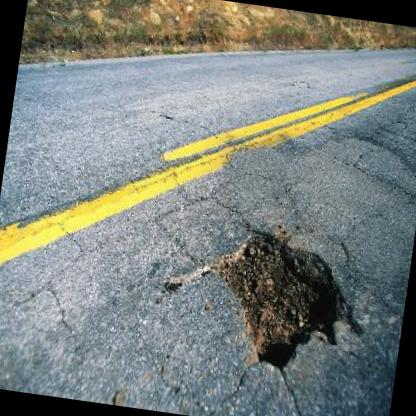pothole: (194, 218, 376, 386)
